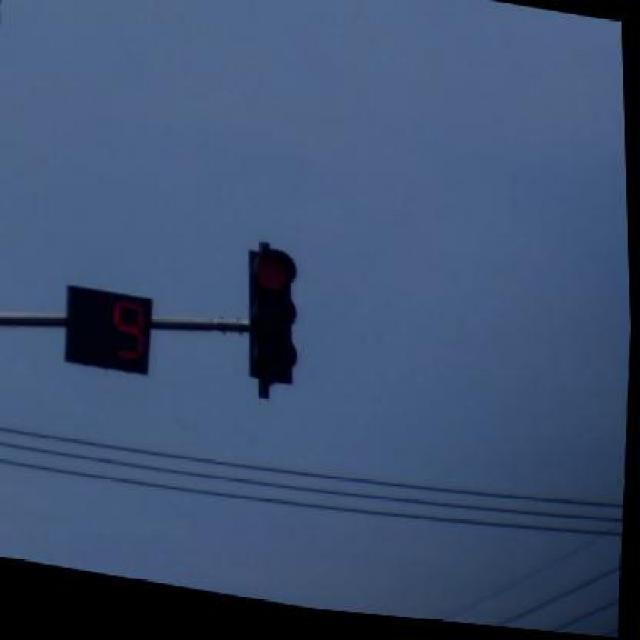red_light: (247, 240, 294, 396)
